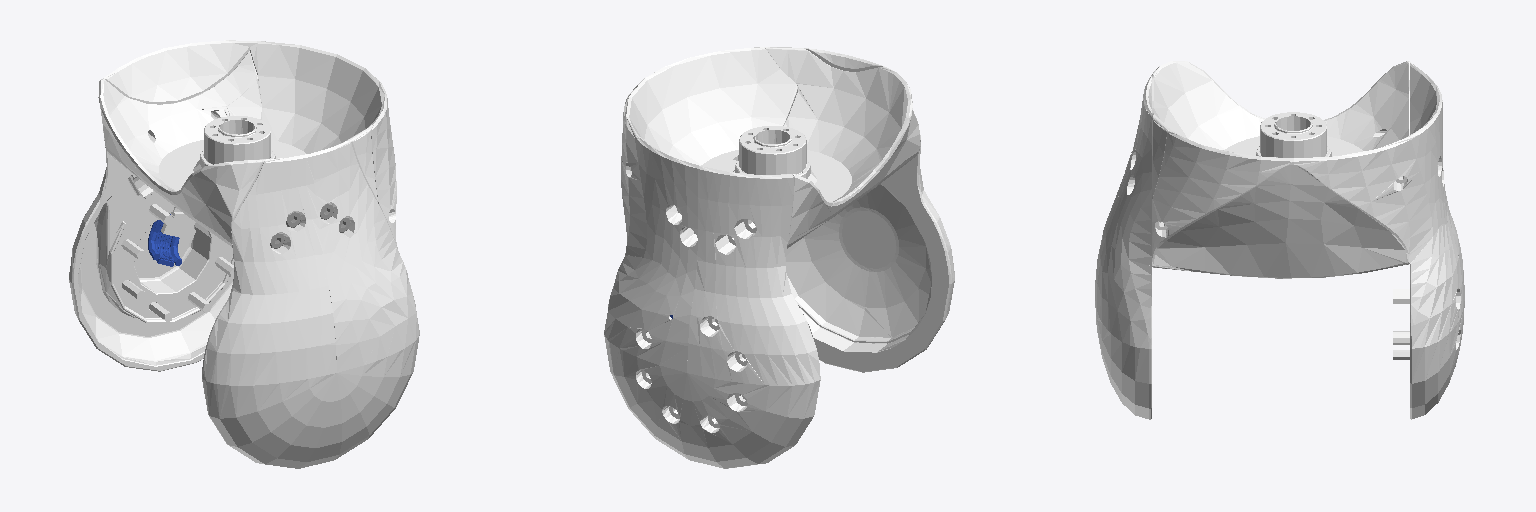
Rendered from elbow1_left.obj.
3 renders of one model, left to right at view 1: azimuth 30°, elevation 25°; view 2: azimuth 150°, elevation 25°; view 3: azimuth 270°, elevation 25°, orthographic.
Parts seen in each view (by area): view 1: elbow1_left; view 2: elbow1_left; view 3: elbow1_left.
Part boxes in pixels (left/top/right/bottom): elbow1_left: left=69, top=40, right=419, bottom=468; elbow1_left: left=604, top=47, right=954, bottom=468; elbow1_left: left=1095, top=61, right=1464, bottom=419.
Bounding box in the file's own units: 0.1009 × 0.1273 × 0.1365.